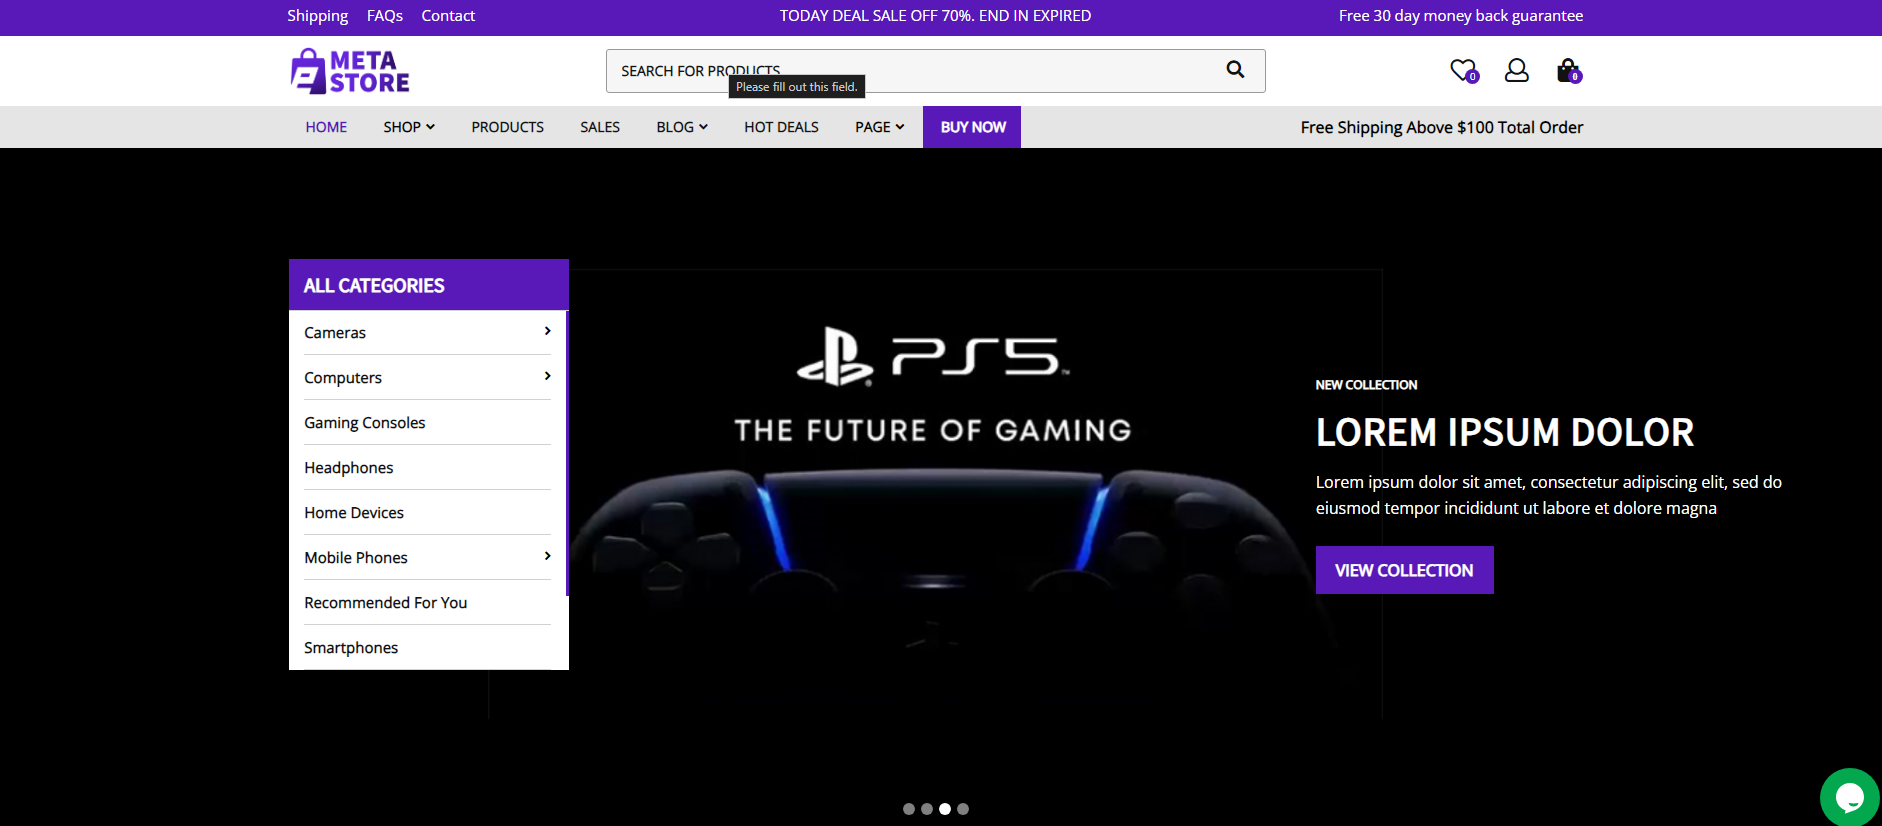menu: (20, 1, 1866, 161)
